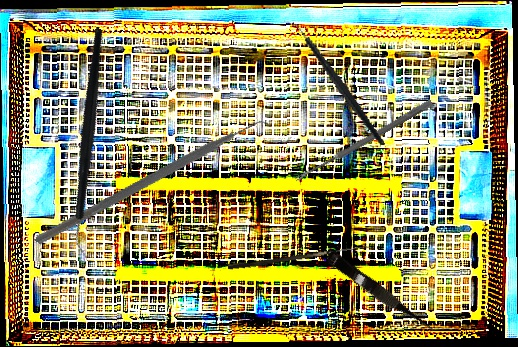Chopper: (34, 51, 280, 320), (3, 27, 180, 260), (283, 3, 386, 162)
Hook Surgical: (227, 239, 370, 273)
Micro Scissor: (322, 249, 439, 339)
Surgical Spoon: (293, 98, 434, 184)
